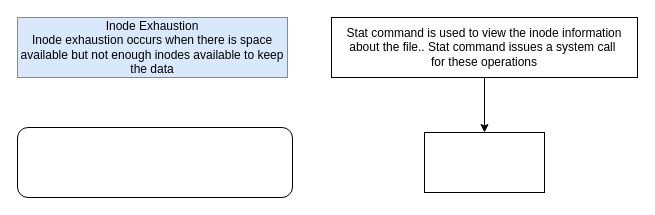
Image size: 655x215. Some labels were removed from this diagram. The centre of each missing label's shape, as x and y in pixels:
"df -i command is used to display inode information usage for a particular disk" belongs at point 154,162.
"Last changed is the time when the inode information of file was last changed" belongs at point 484,162.
